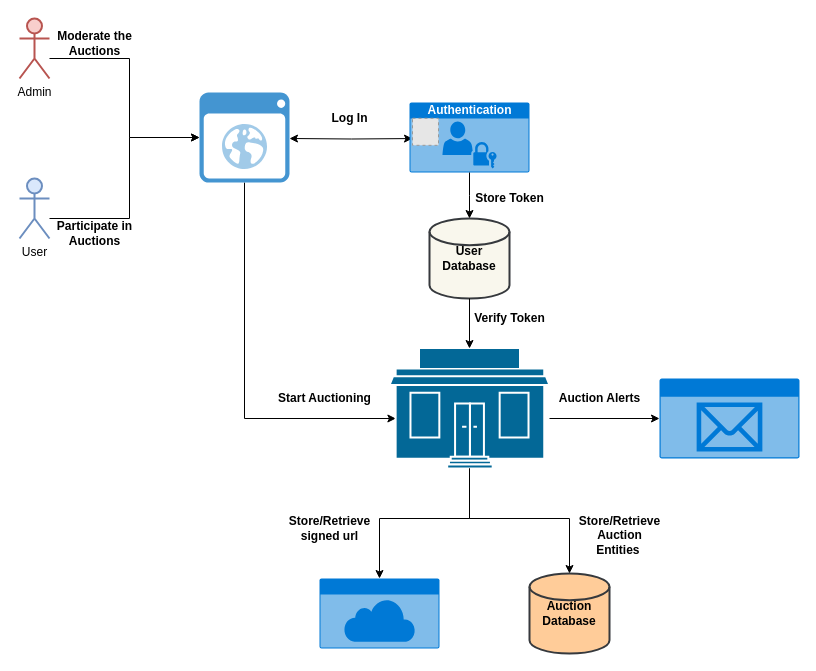
Image size: 816x671. Some labels were removed from this diagram. Grey dashed boxes stand in for pictures. Here are the shapes that lost their labels. From the top down, the centre of each, then its label:
At (x=469, y=358): "Auction House".
At (x=729, y=418): "Notification Service".
At (x=379, y=613): "Cloud".
